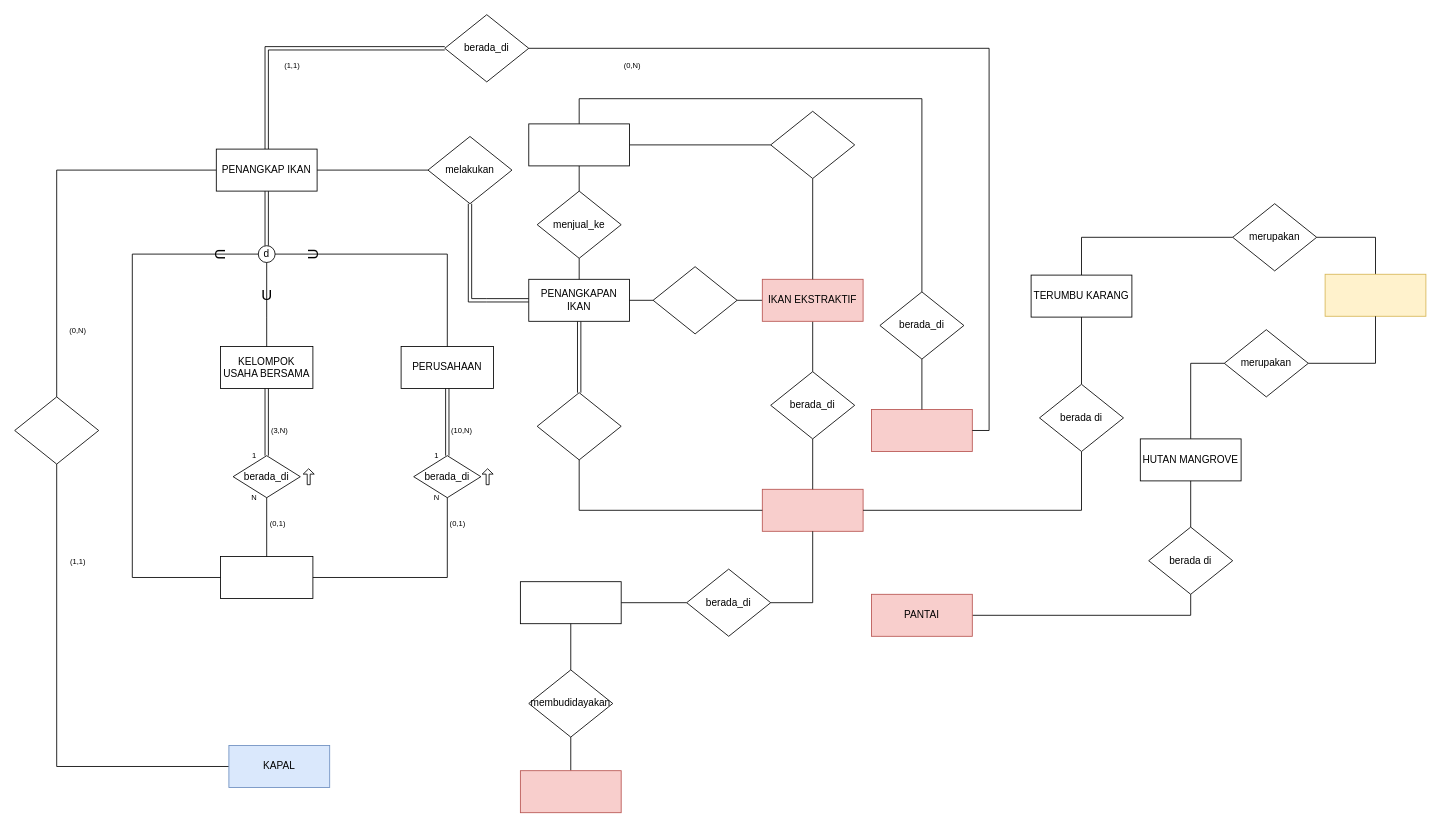
Image size: 1441x827. Some labels were removed from this diagram. The shapes that lost their labels are listed below. From the top down, each one's box as (x1, y1, x2, y2) in pixels, then its label:
(528, 123, 630, 166): TEMPAT PELELANGAN IKAN
(770, 110, 855, 178): memiliki_stok
(652, 266, 737, 334): menangkap
(1324, 273, 1426, 316): OBJEK WISATA
(14, 396, 99, 464): memiliki
(536, 392, 621, 460): menangkap_di
(871, 409, 972, 452): KOTA
(761, 488, 863, 531): LAUT
(220, 556, 313, 598): NELAYAN
(520, 581, 621, 624): BUDIDAYA
(520, 770, 621, 813): HEWAN BUDIDAYA
